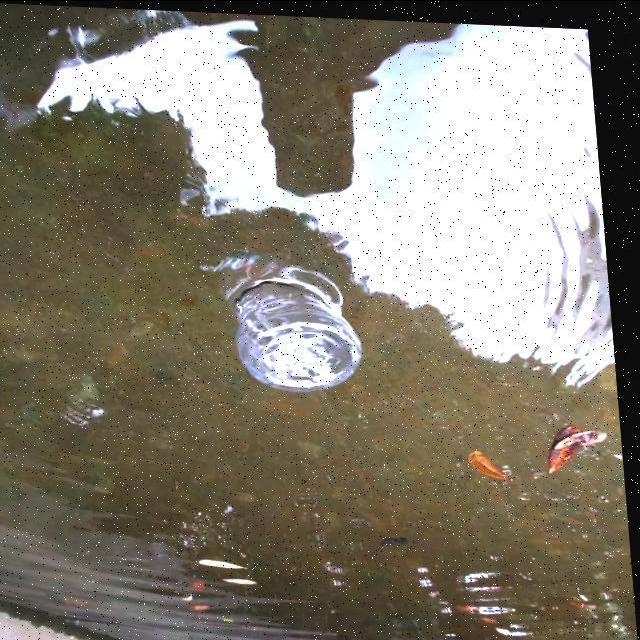Bottle: (221, 245, 367, 398)
